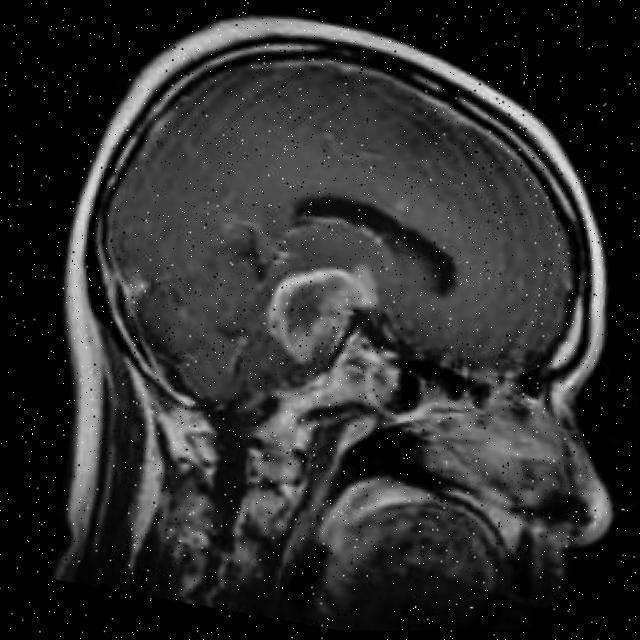LMCI: (228, 213, 414, 386)
